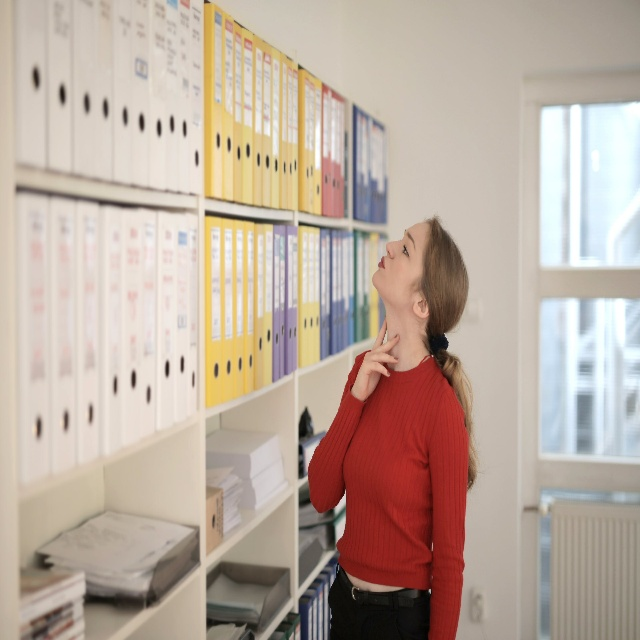Sin_guantes: (352, 315, 400, 401)
